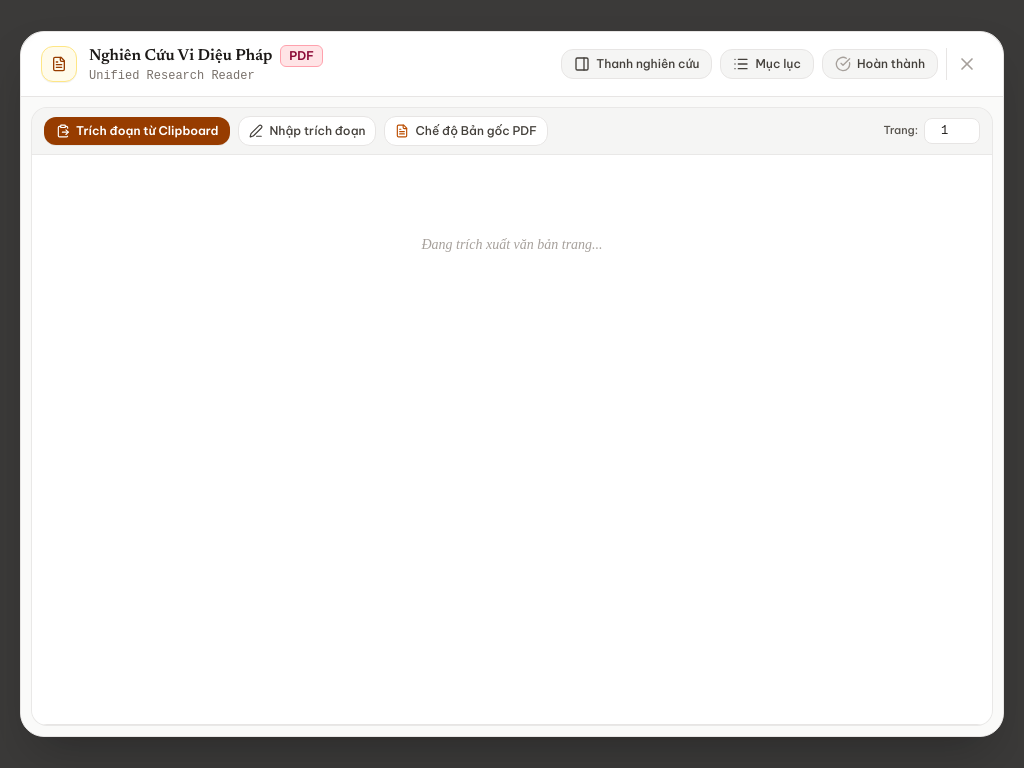
Test: Phase R5A: Dedicated Highlights Read/Write Slice (Unit & Integration) › 1. Highlight action saves excerpt to researchExcerpts in DataContext WITHOUT adding inbox task
This screenshot has width=1024, height=768.
Kích hoạt manual quote để mô phỏng selection toolbar
Click the button with test id "pdf-manual-quote-btn": (308,131) left=238, top=116, right=376, bottom=146
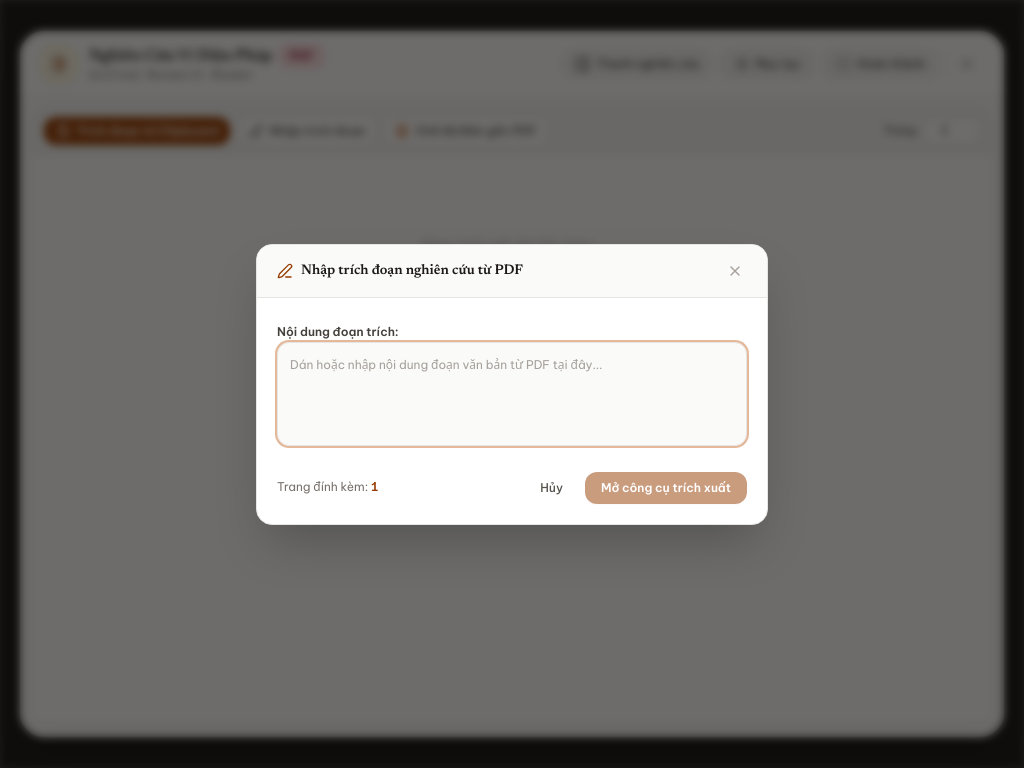
In the text box with test id "pdf-manual-quote-textarea": (512,394) left=277, top=342, right=747, bottom=446, type "Sắc pháp gồm tứ đại chủng."
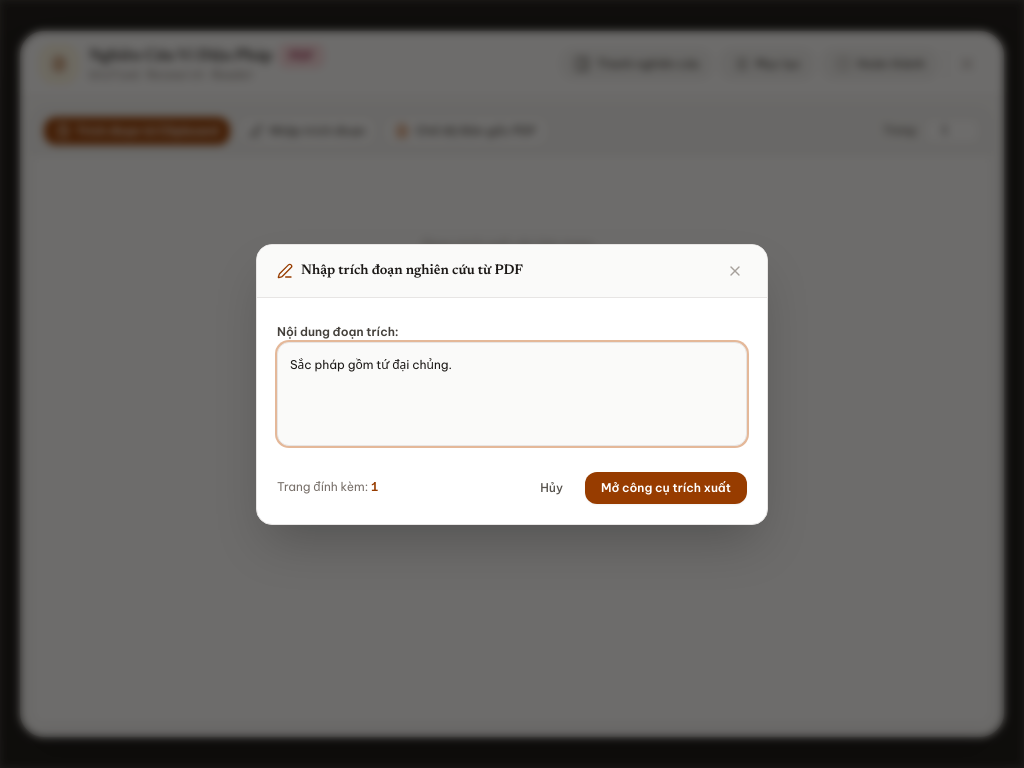
Click the button with test id "pdf-manual-quote-submit-btn": (666,488) left=585, top=472, right=747, bottom=504
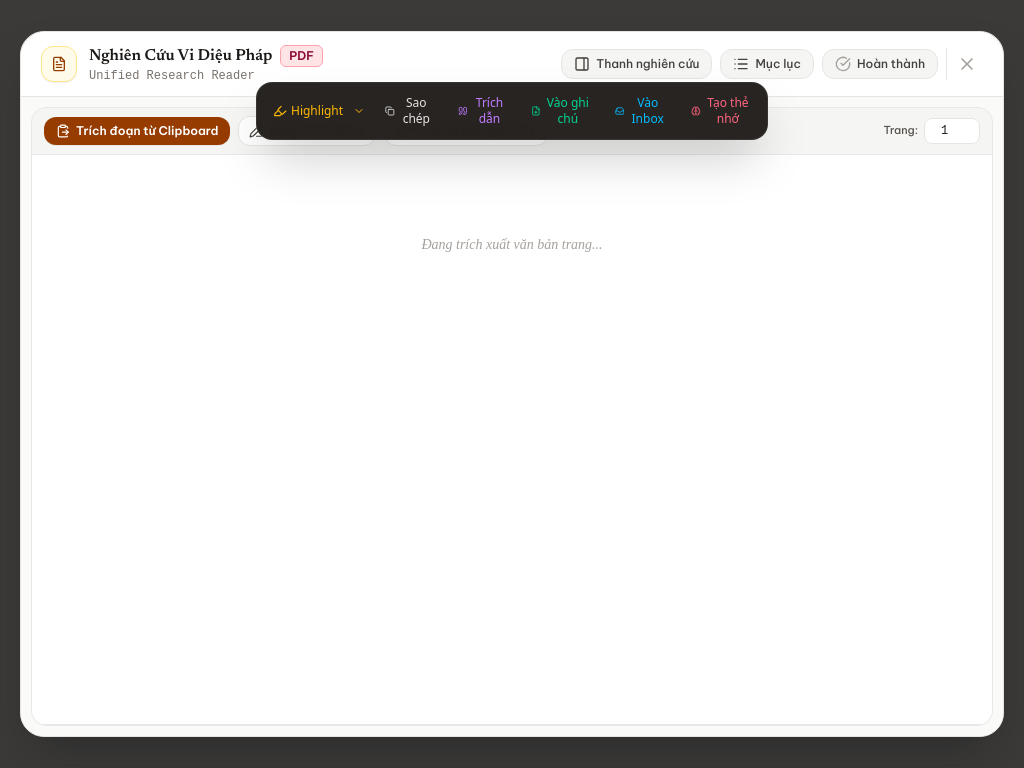
Click the button "Highlight": (308,111) left=263, top=97, right=353, bottom=125
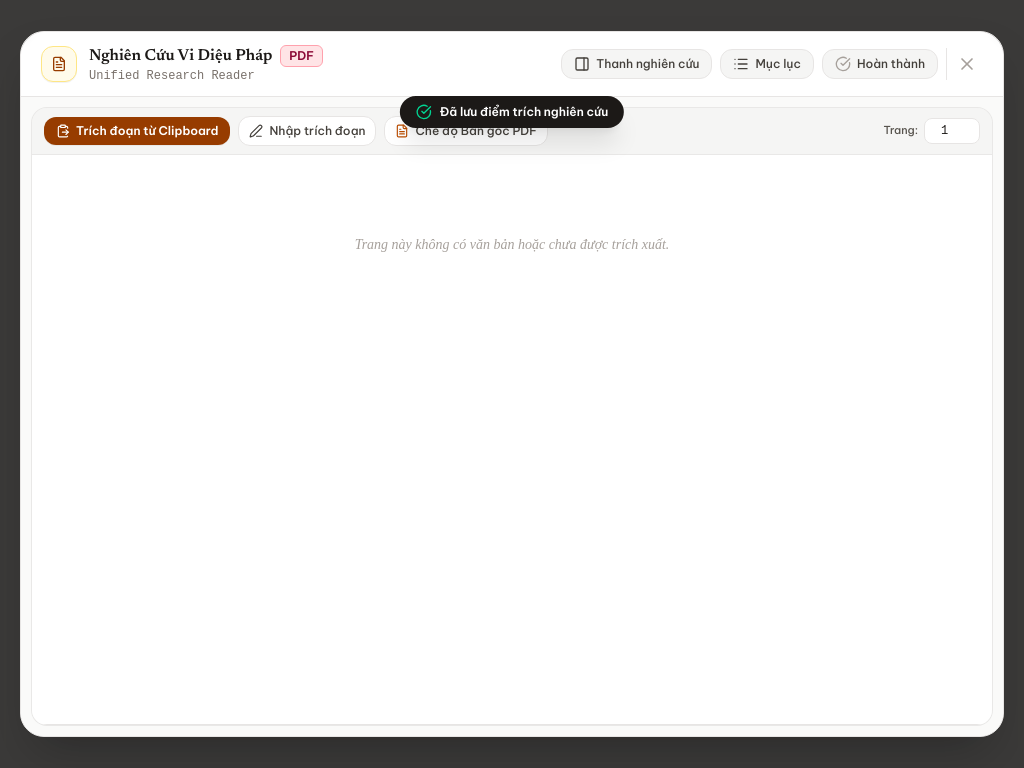
Expected: the text "Đã lưu điểm trích nghiên cứu" is shown, left=440, top=104, right=608, bottom=120
Mở Sidebar để kiểm tra
Click the button with test id "reader-toggle-sidebar-btn": (637,64) left=561, top=49, right=712, bottom=79
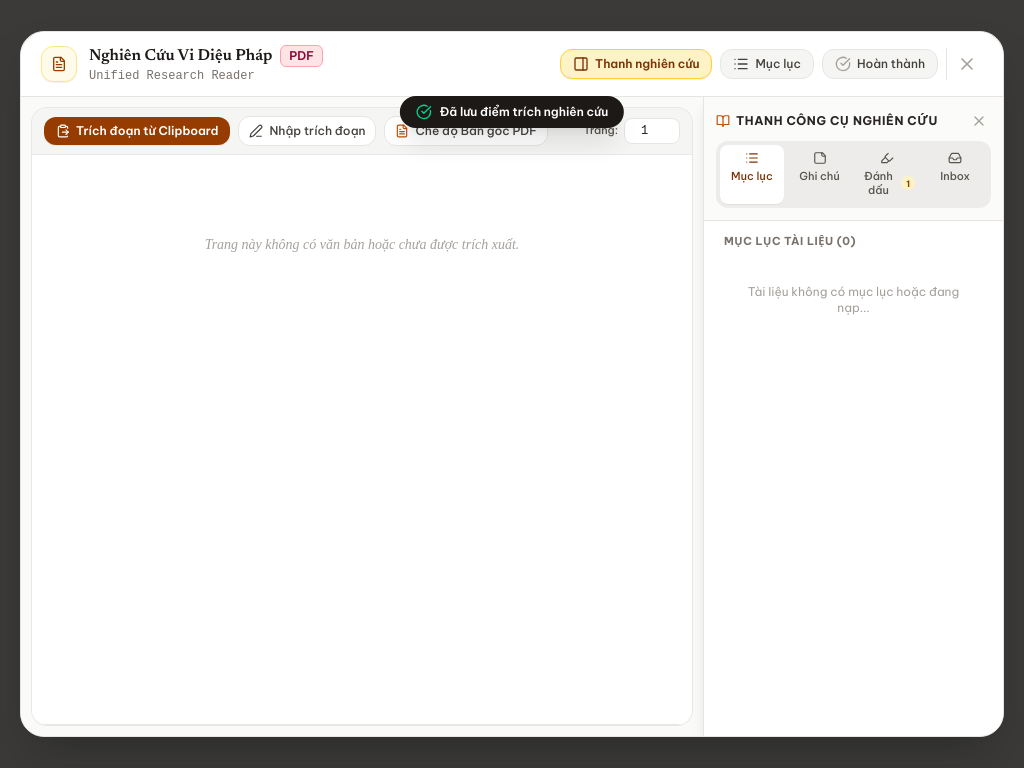
Expected: the text "1" is shown, left=901, top=176, right=915, bottom=190
